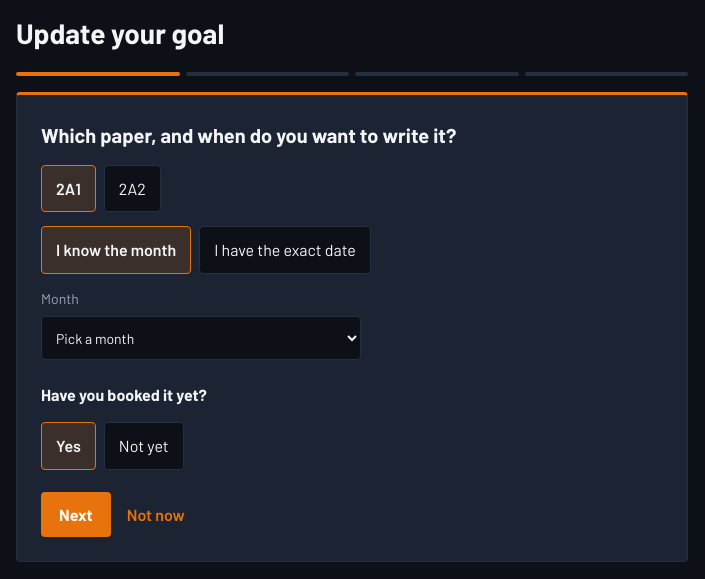
Scenario: GoalsPage › "Something else" needs a description before moving on
Expected: the heading "Update your goal" is shown, [16,16,224,50]
Click the button "Next".
click(76, 514)  # box [41,492,111,537]
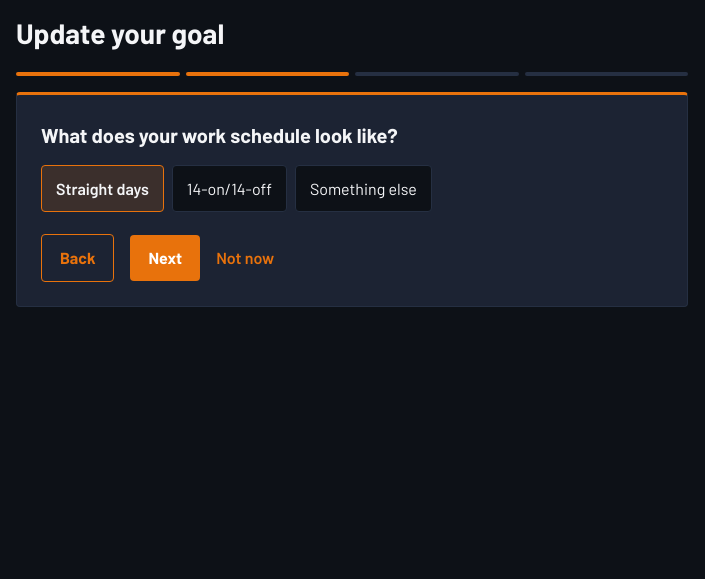
Click the button "Something else".
click(363, 189)  # box [295,165,432,212]
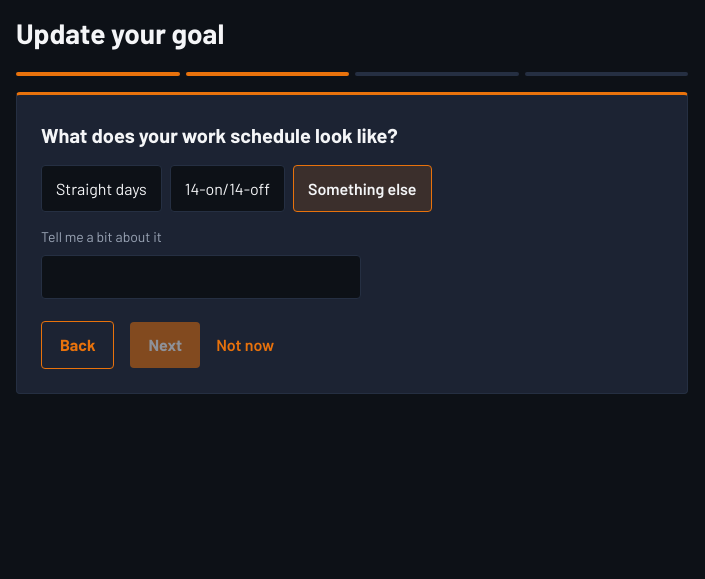
Expected: the button "Next" is disabled, [130,322,200,368]
Type "5 days on, 2 off, some nights" into the field.
click(201, 277); type("5 days on, 2 off, some nights")  # box [41,255,361,299]
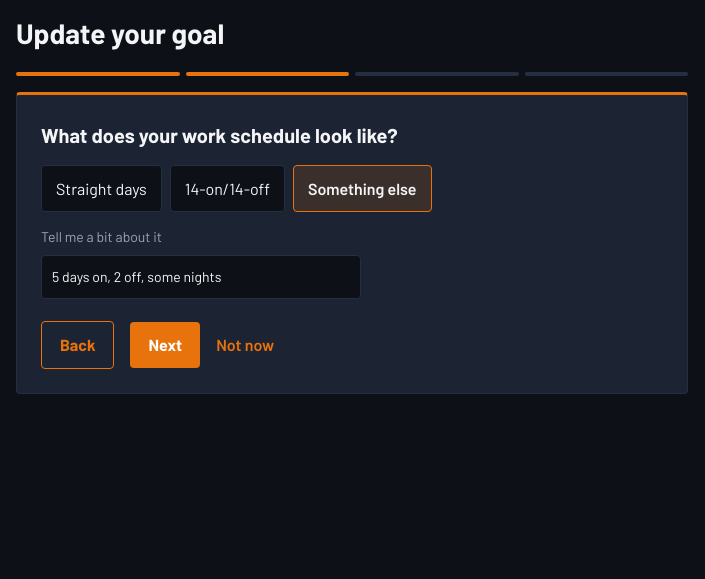
Expected: the button "Next" is enabled, [130,322,200,368]
